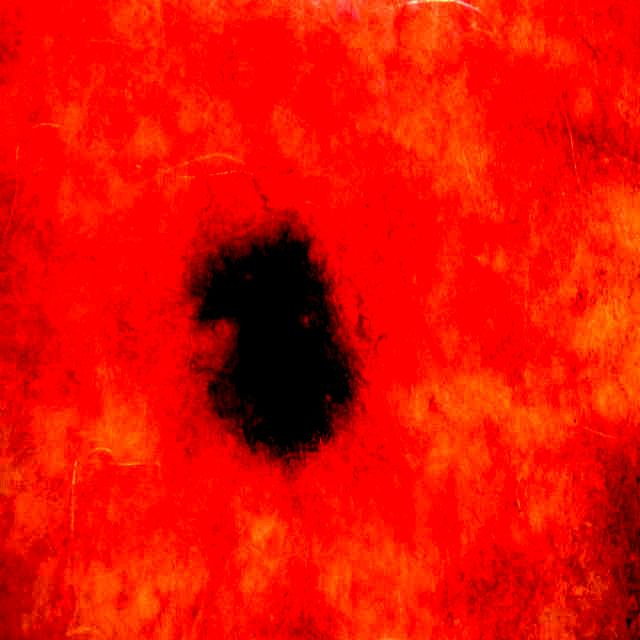NV: (185, 175, 362, 464)
